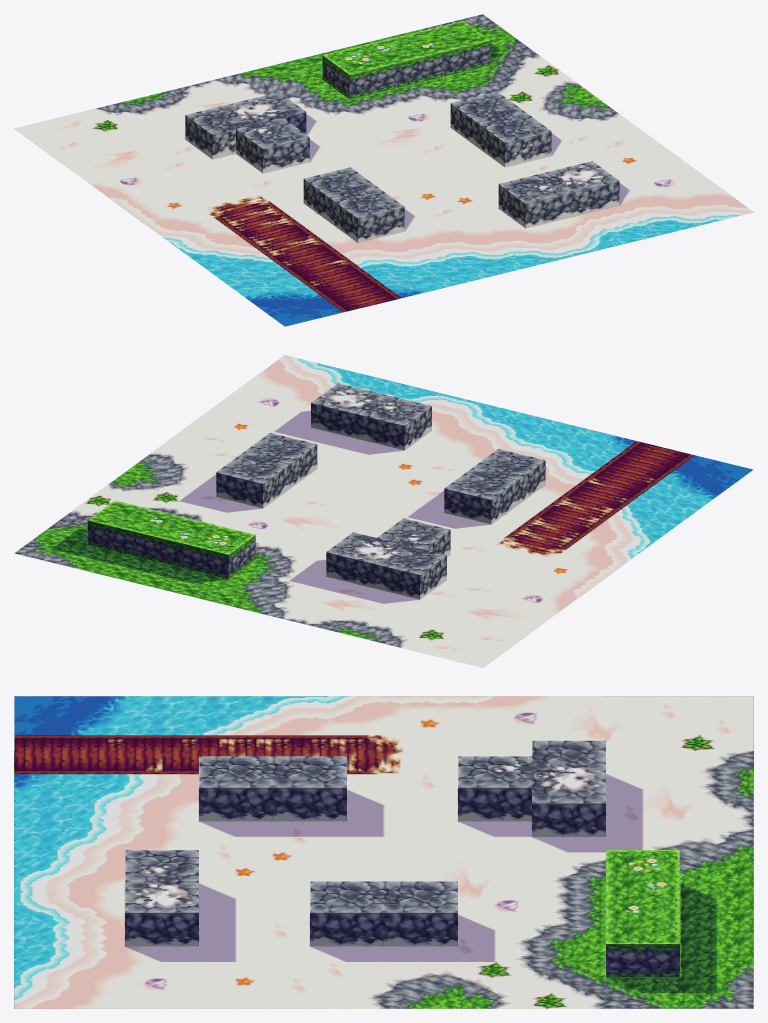
Rendered from emerald_beach.glb.
The picture shows the model from 3 angles, top to bottom: view 1: azimuth 30°, elevation 25°; view 2: azimuth 150°, elevation 25°; view 3: azimuth 270°, elevation 25°; orthographic projection. The views are drawn at different scales.
Parts seen in each view (by area): view 1: emerald_beach-col; view 2: emerald_beach-col; view 3: emerald_beach-col.
Part boxes in pixels (x1,y1,x2,y2): emerald_beach-col: (14, 14, 753, 326); emerald_beach-col: (14, 355, 753, 667); emerald_beach-col: (14, 696, 753, 1008).
Size of what is drawn, in the model's own units: 39.87 by 2 by 39.87.
2 materials, 2 textured.
